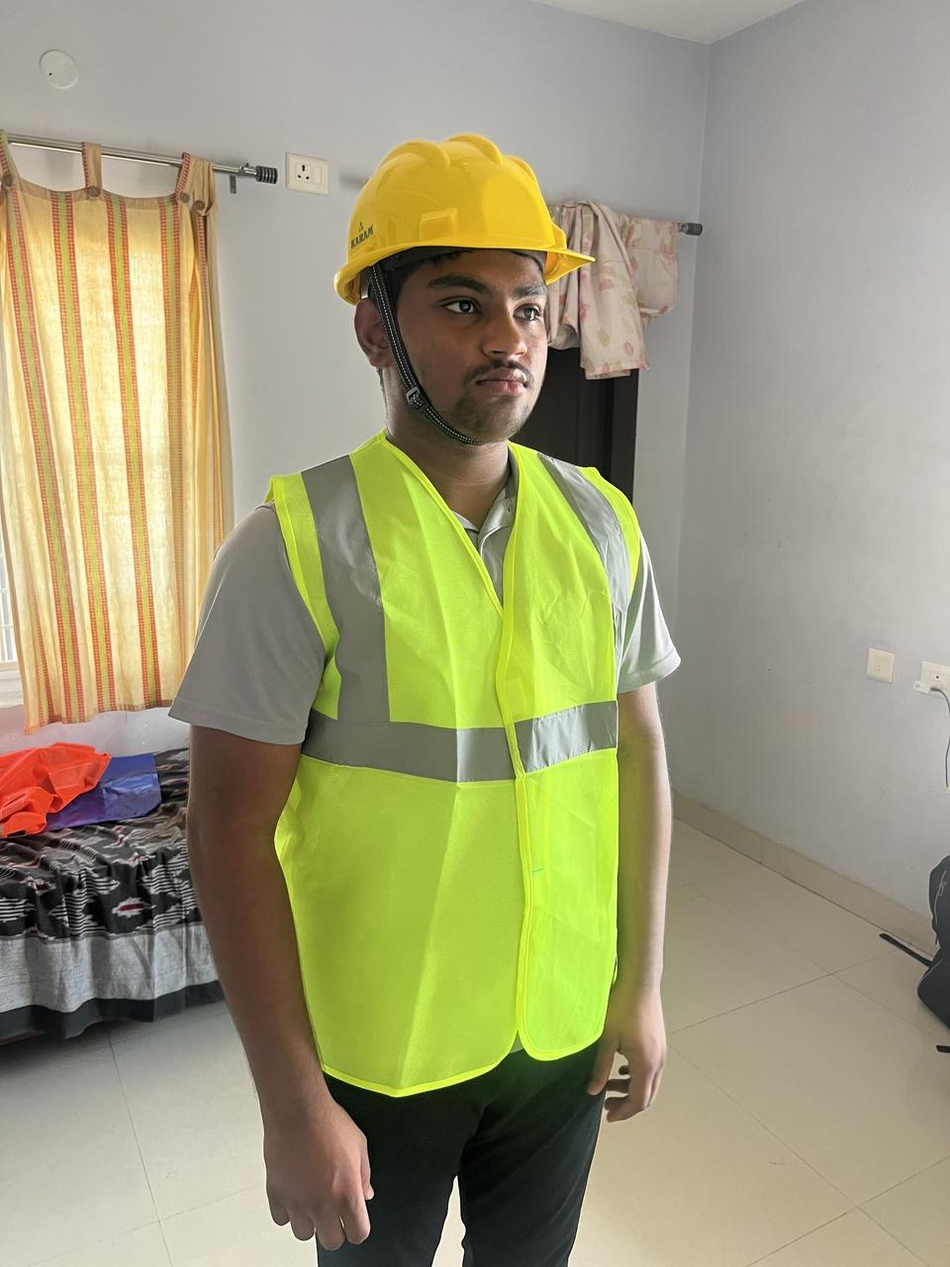Helmet: (333, 133, 597, 446)
Person: (169, 133, 682, 1267)
Vest: (264, 435, 641, 1100)
